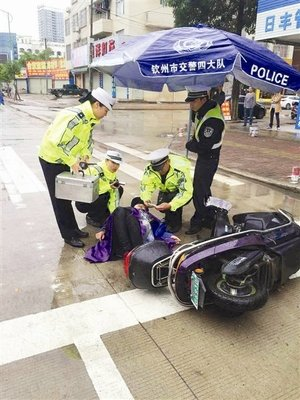fall: (84, 187, 183, 268)
